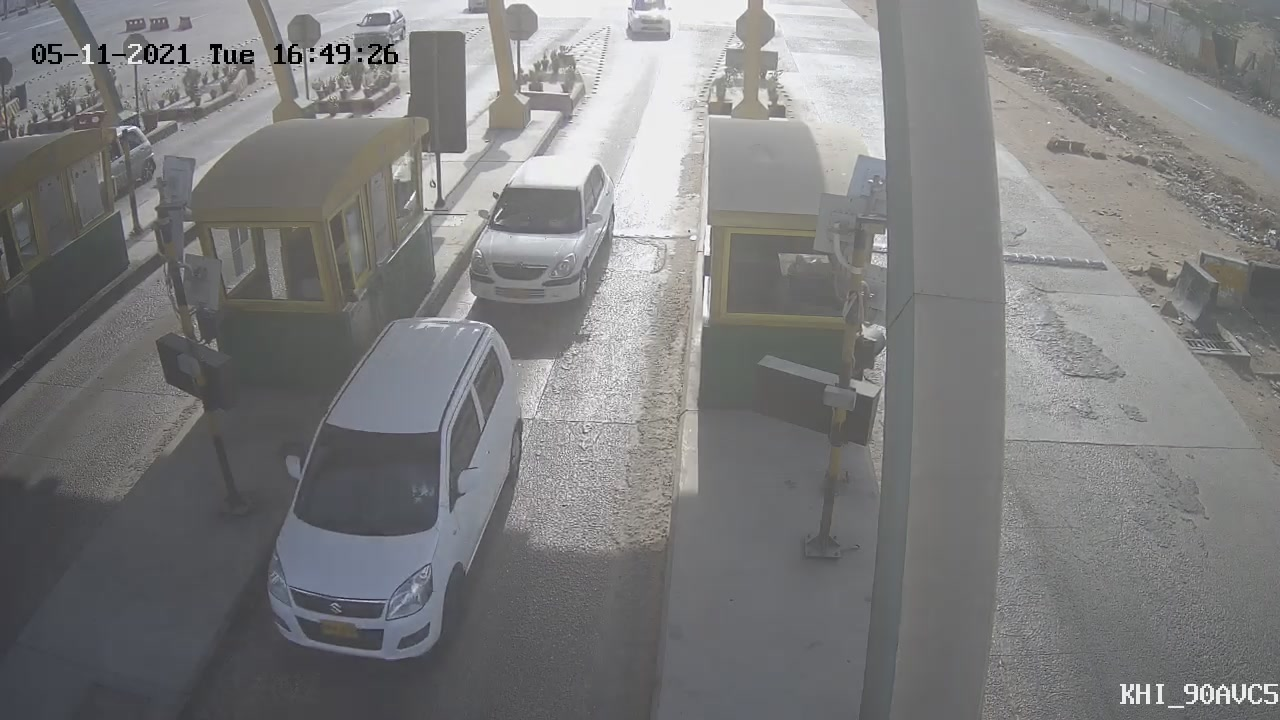F1: (453, 140, 635, 331)
